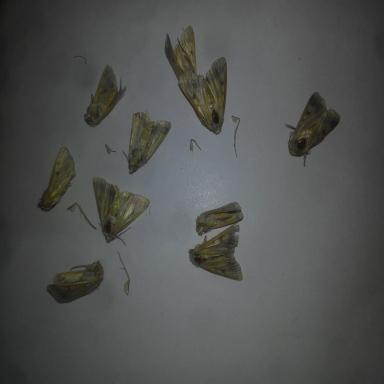abw: (282, 89, 342, 170), (175, 54, 231, 136), (90, 173, 152, 245), (186, 219, 246, 285), (119, 108, 173, 177), (44, 255, 106, 308), (81, 60, 128, 129), (34, 143, 78, 215), (163, 22, 200, 92), (190, 196, 246, 236)
